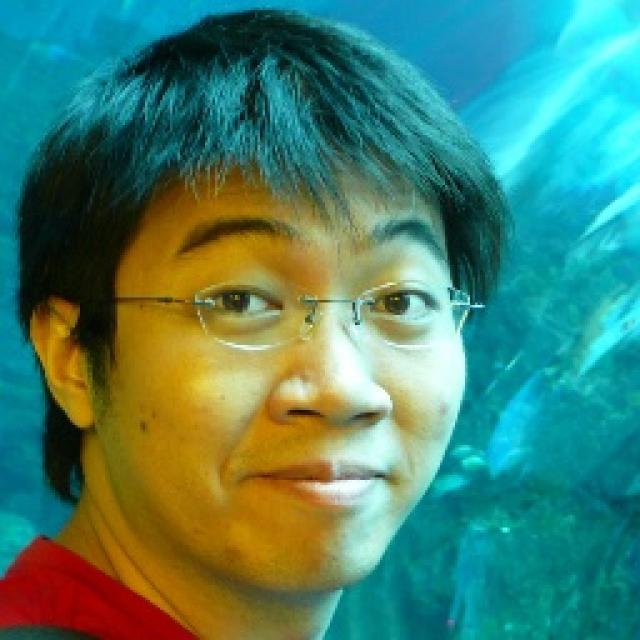earlobe: (59, 400, 96, 430)
eye: (205, 284, 284, 320), (366, 287, 438, 318)
nose: (272, 407, 390, 450)
wholeear: (28, 296, 97, 430)
